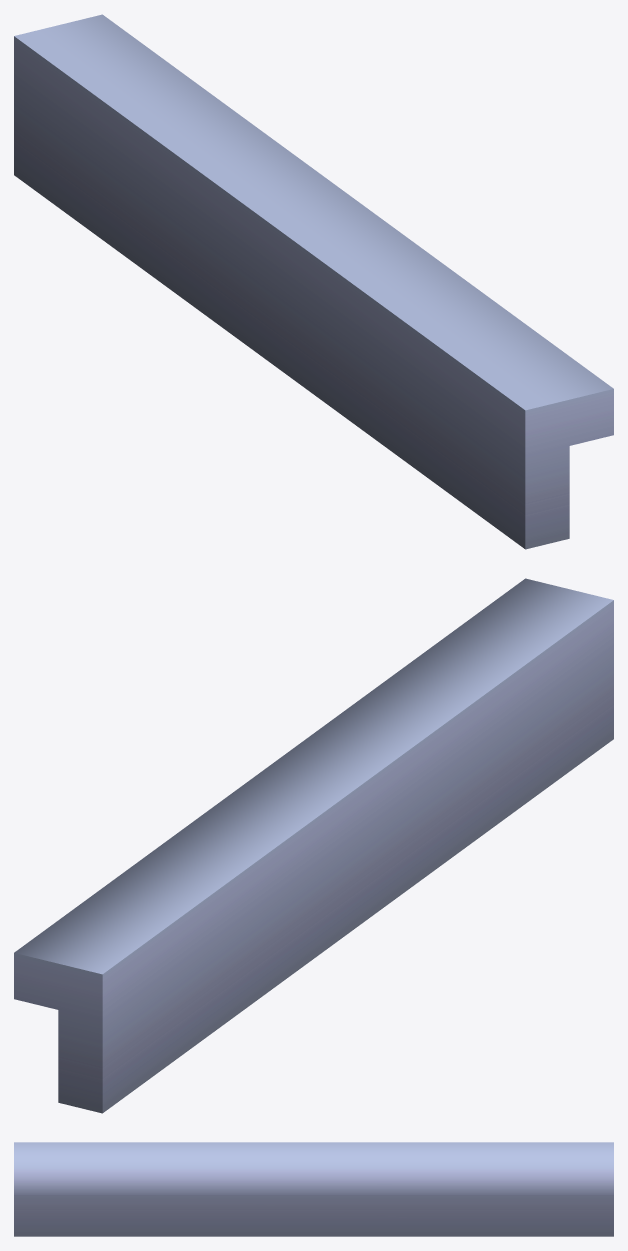
The model's file is kenney-building-border.glb.
3 views of the same model, one above another, from view 1: azimuth 30°, elevation 25°; view 2: azimuth 150°, elevation 25°; view 3: azimuth 270°, elevation 25° (orthographic). The views are drawn at different scales.
Parts seen in each view (by area): view 1: border; view 2: border; view 3: border.
Boxes of the visible parts, box(x1,y1,x2,y2) form: border: box(14, 14, 613, 549); border: box(14, 578, 613, 1113); border: box(14, 1142, 613, 1236).
Bounding box in the file's own units: 0.2 × 0.3001 × 2.
1 material, 1 textured.
